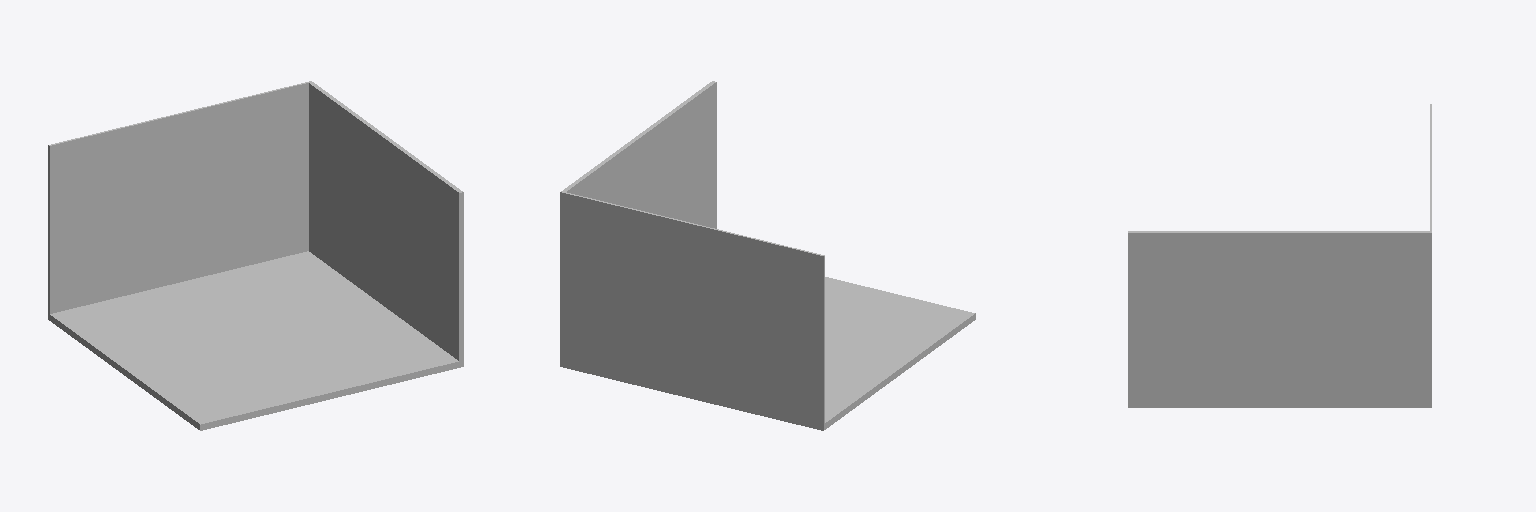
File: 4x4 third-14.obj
3 views of the same model, side by side, from view 1: azimuth 30°, elevation 25°; view 2: azimuth 150°, elevation 25°; view 3: azimuth 270°, elevation 25° (orthographic).
Visible parts, largest first — view 1: 4x4 third-14; view 2: 4x4 third-14; view 3: 4x4 third-14.
Boxes of the visible parts, box(x1,y1,x2,y2) form: 4x4 third-14: box(48, 81, 463, 430); 4x4 third-14: box(560, 81, 975, 430); 4x4 third-14: box(1128, 104, 1431, 407).
Bounding box in the file's own units: 126 × 80 × 126.